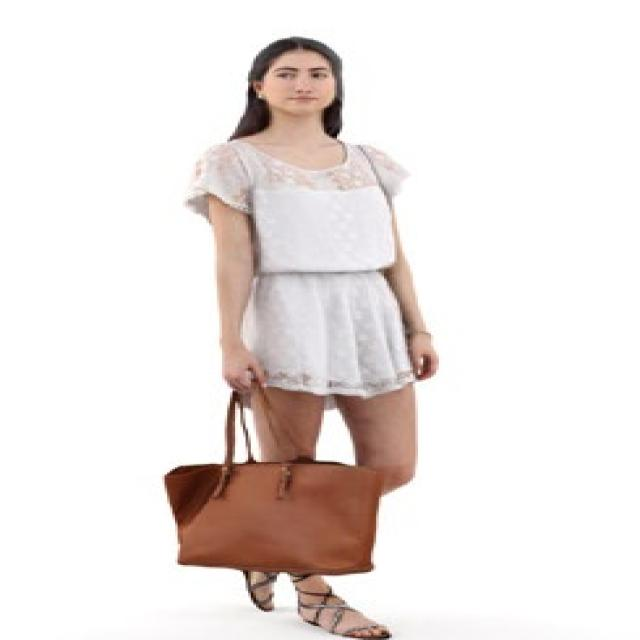standing: (202, 33, 436, 640)
